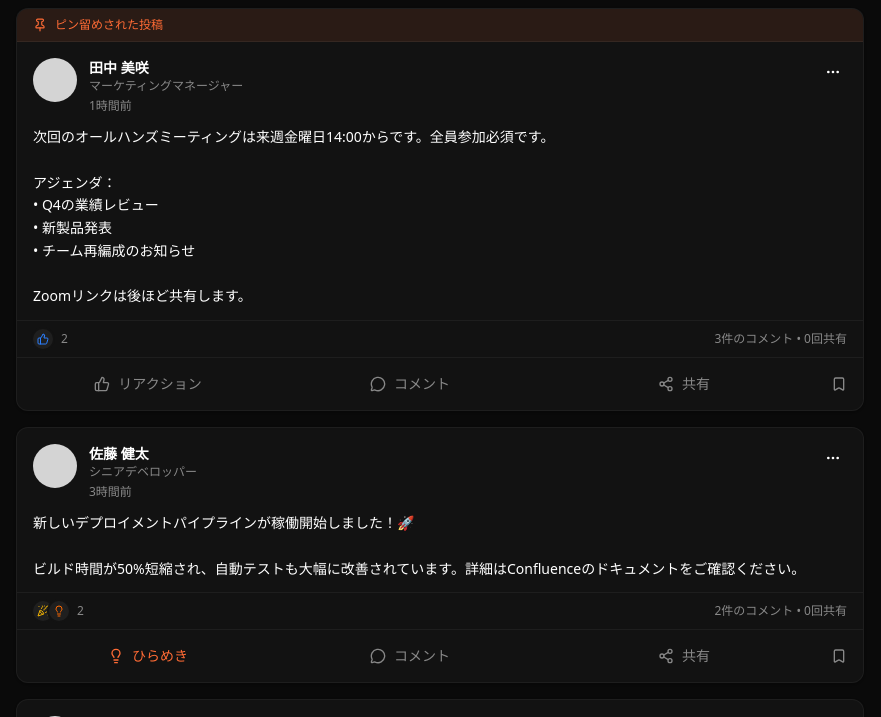
Test case: CommunityFeed / Interactions › should close popup after reaction selection
(page scrolled)
Click the button "リアクション" at (148, 384), box [25, 366, 271, 402]
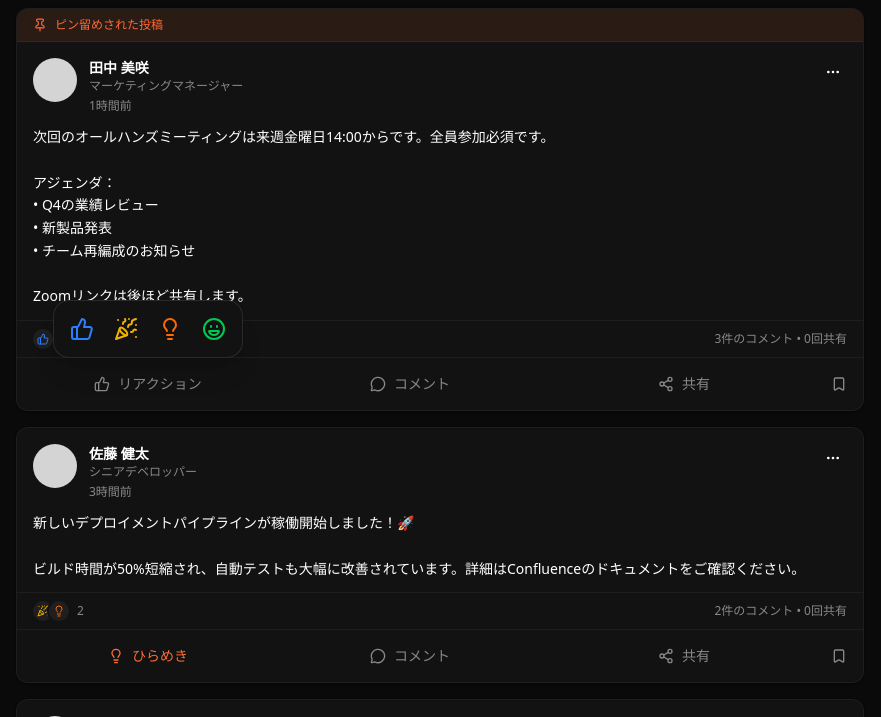
expect the button titled "いいね" is shown: met
Click the button titled "いいね" at (82, 329), box [62, 309, 102, 349]
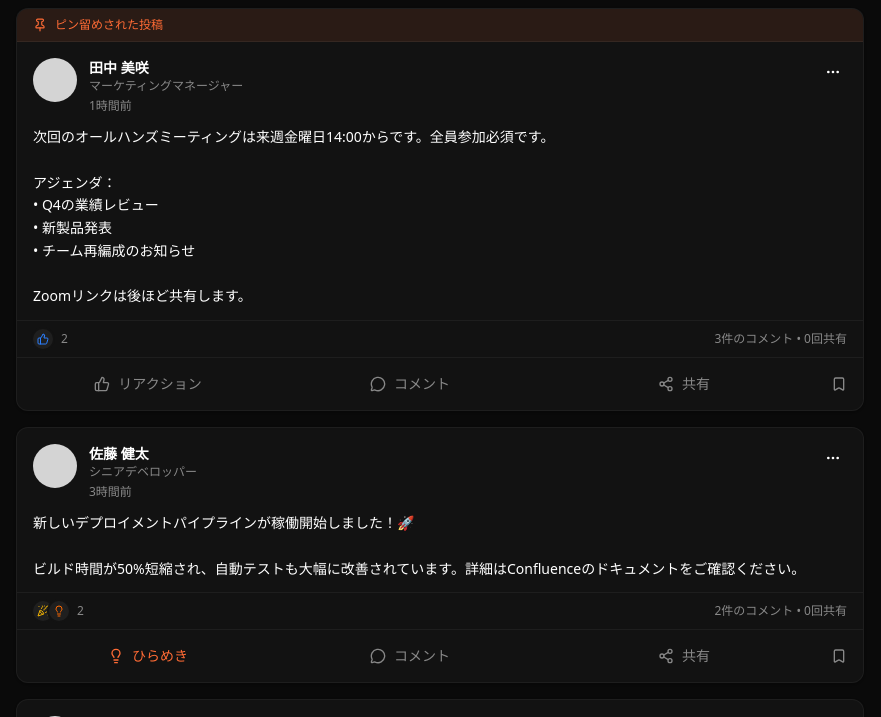
expect the button titled "祝福" is gone: met
